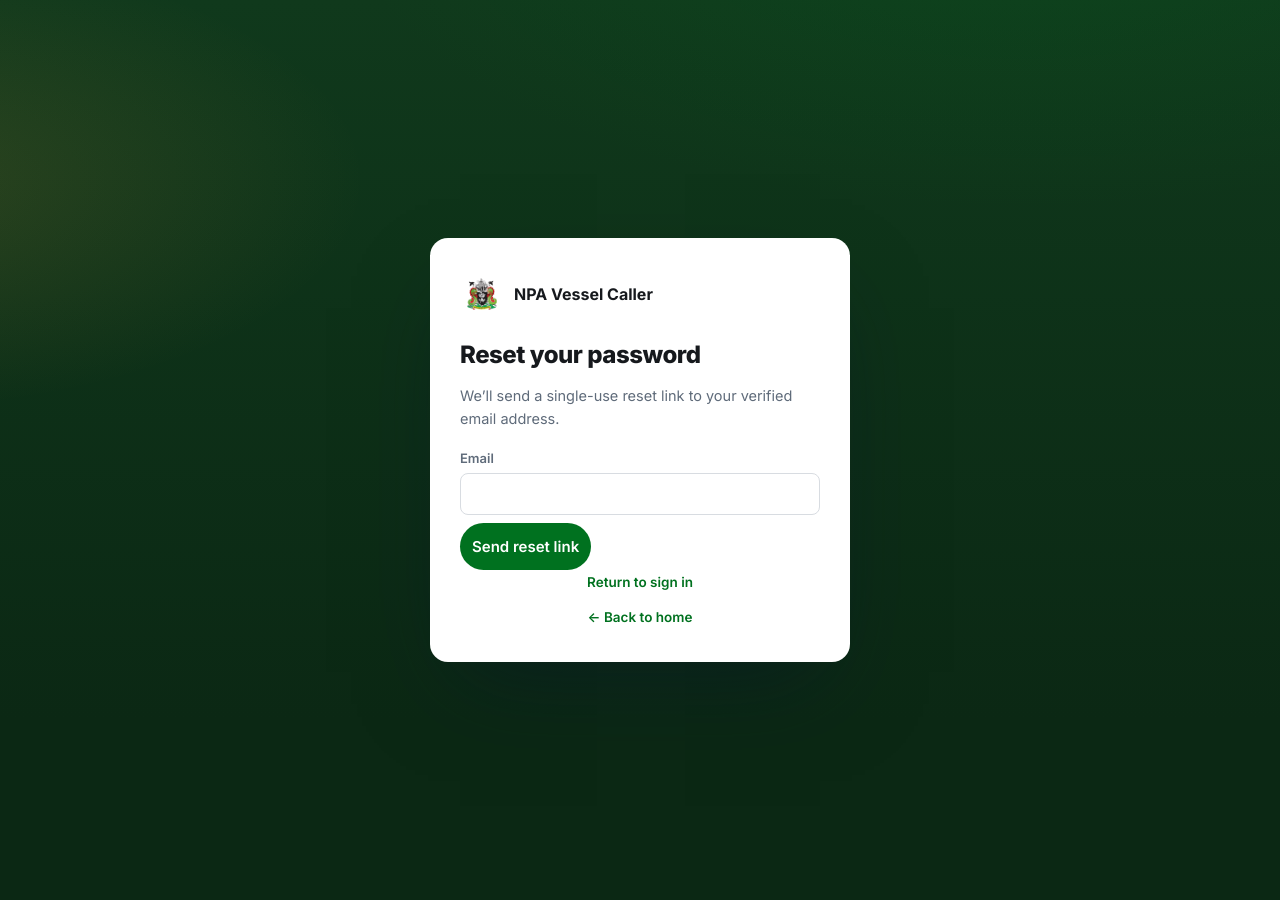
Test: organization-specific account recovery › requests password recovery for the organization selected by the sign-in link
This screenshot has width=1280, height=900.
Type "SAME@EXAMPLE.COM" into the field labelled "Email" at (640, 494), box [460,473,820,515]
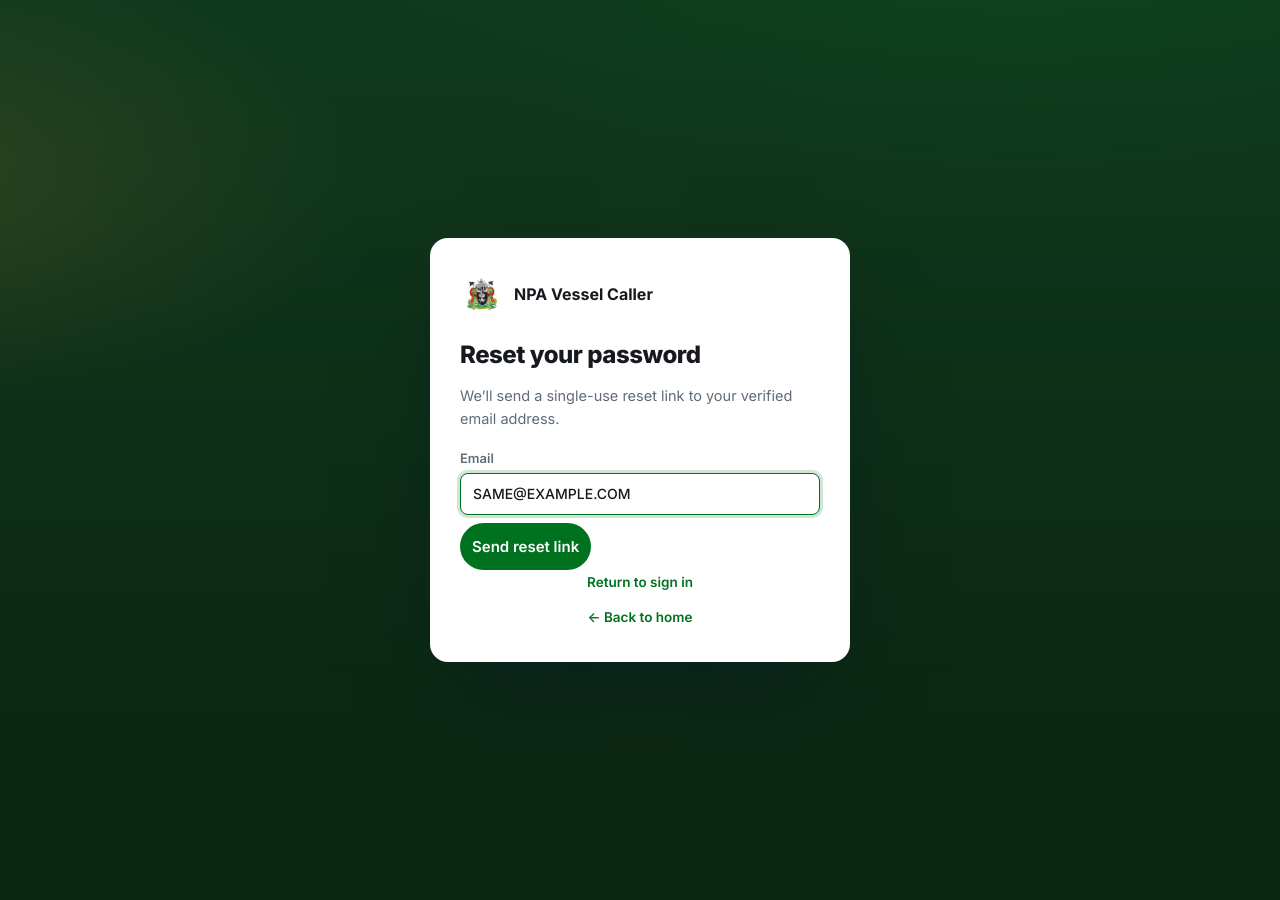
Click the button "Send reset link" at (526, 547), box [460,523,591,570]
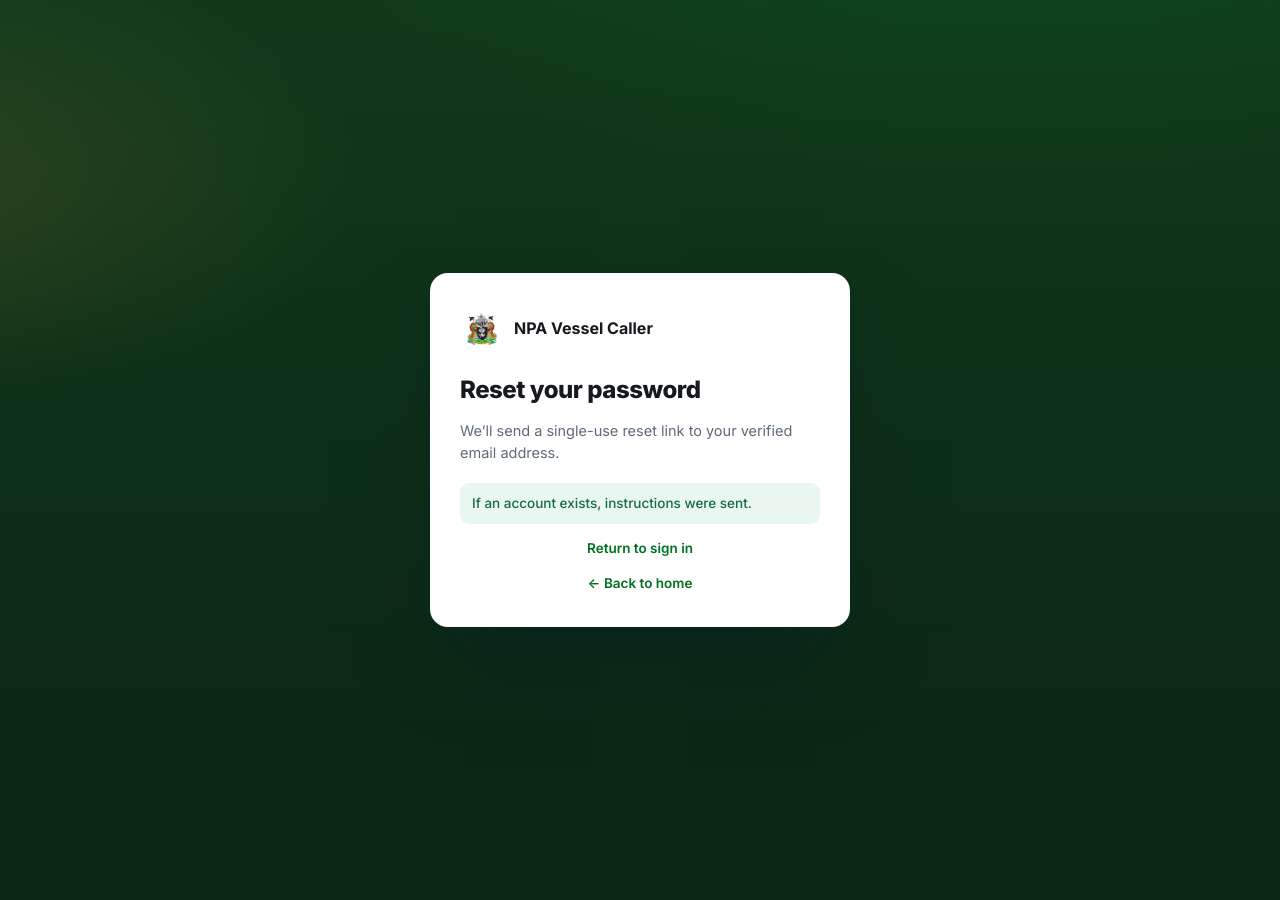
Now the message shows "If an account exists", box [472,495,752,511]
